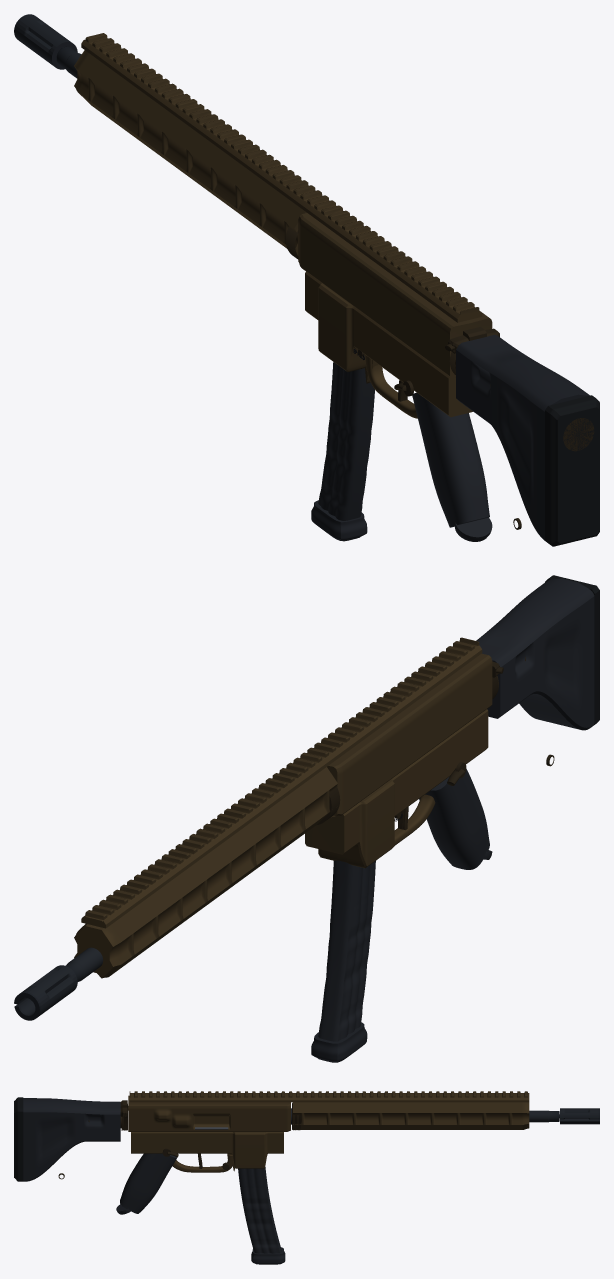
Rendered from weapon_rifle_vm.glb.
The picture shows the model from 3 angles, top to bottom: view 1: azimuth 30°, elevation 25°; view 2: azimuth 150°, elevation 25°; view 3: azimuth 270°, elevation 25°; orthographic projection. The views are drawn at different scales.
Parts seen in each view (by area): view 1: rifle_top_rail, rifle_handguard, rifle_stock, rifle_upper, rifle_butt_pad, rifle_lower, rifle_mag_body, rifle_grip, rifle_flash_hider, rifle_mag_floorplate, rifle_trigger_guard, rifle_buffer_tube; view 2: rifle_stock, rifle_handguard, rifle_top_rail, rifle_upper, rifle_lower, rifle_mag_body, rifle_grip, rifle_flash_hider, rifle_mag_floorplate, rifle_butt_pad, rifle_trigger_guard, rifle_barrel; view 3: rifle_handguard, rifle_stock, rifle_upper, rifle_top_rail, rifle_lower, rifle_mag_body, rifle_grip, rifle_butt_pad, rifle_flash_hider, rifle_trigger_guard, rifle_mag_floorplate, rifle_barrel.
Boxes of the visible parts, box(x1,y1,x2,y2) form: rifle_top_rail: box(81, 33, 482, 322); rifle_handguard: box(74, 50, 306, 255); rifle_stock: box(456, 334, 589, 542); rifle_upper: box(298, 213, 492, 377); rifle_butt_pad: box(545, 395, 599, 546); rifle_lower: box(305, 271, 472, 417); rifle_mag_body: box(318, 362, 374, 520); rifle_grip: box(412, 392, 489, 527); rifle_flash_hider: box(14, 14, 77, 69); rifle_mag_floorplate: box(311, 500, 367, 541); rifle_trigger_guard: box(365, 355, 417, 418); rifle_buffer_tube: box(563, 418, 594, 451); rifle_stock: box(476, 578, 594, 730); rifle_handguard: box(74, 767, 337, 978); rifle_top_rail: box(81, 637, 482, 928); rifle_upper: box(327, 653, 492, 817); rifle_lower: box(305, 709, 488, 868); rifle_mag_body: box(318, 860, 375, 1041); rifle_grip: box(419, 769, 489, 869); rifle_flash_hider: box(14, 965, 77, 1020); rifle_mag_floorplate: box(311, 1022, 367, 1062); rifle_butt_pad: box(545, 575, 599, 726); rifle_trigger_guard: box(394, 794, 435, 845); rifle_barrel: box(65, 947, 103, 981); rifle_handguard: box(293, 1102, 529, 1129); rifle_stock: box(23, 1098, 120, 1181); rifle_upper: box(128, 1095, 290, 1131); rifle_top_rail: box(129, 1091, 529, 1102); rifle_lower: box(131, 1132, 283, 1171); rifle_mag_body: box(238, 1167, 281, 1253); rifle_grip: box(120, 1153, 177, 1213); rifle_butt_pad: box(14, 1097, 23, 1181); rifle_flash_hider: box(560, 1108, 599, 1124); rifle_trigger_guard: box(172, 1154, 233, 1172); rifle_mag_floorplate: box(251, 1247, 285, 1264); rifle_barrel: box(291, 1108, 559, 1124).
Size of the model in its own units: 0.0534 by 0.2566 by 0.812.
